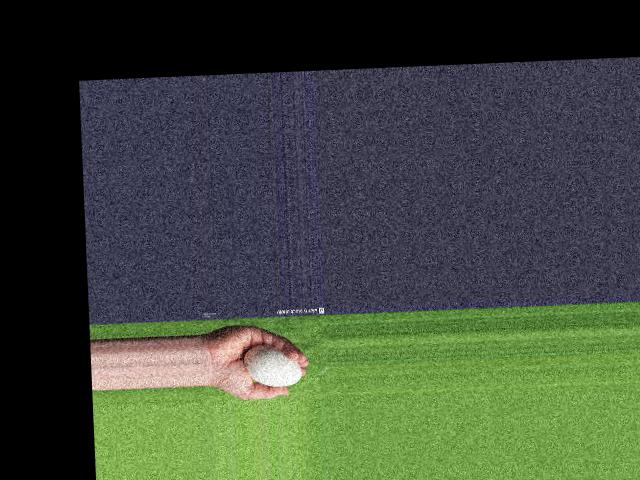egg: (241, 342, 301, 388)
